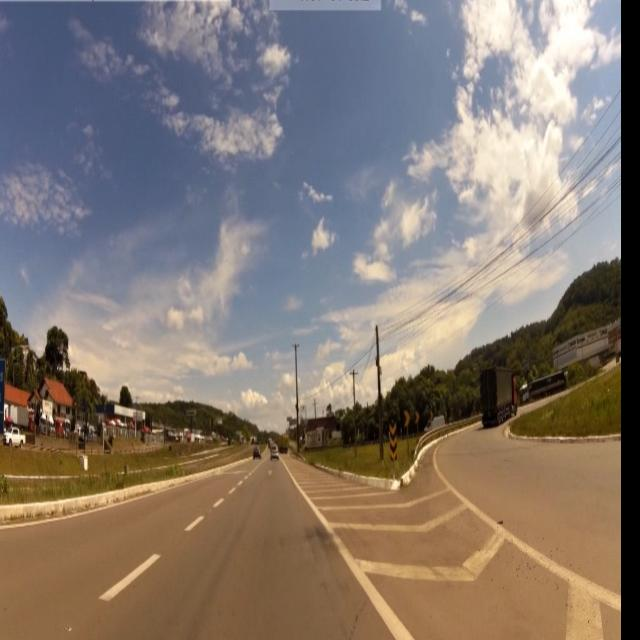MP: (388, 421, 398, 465)
